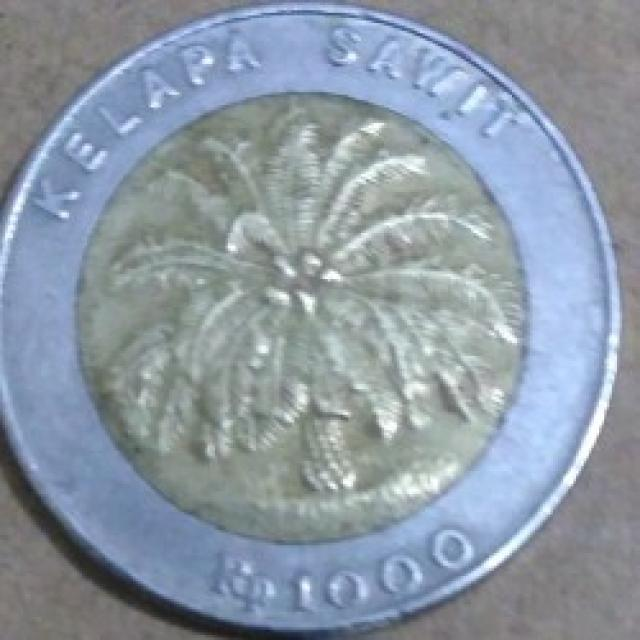1000-sawit: (3, 7, 622, 640)
